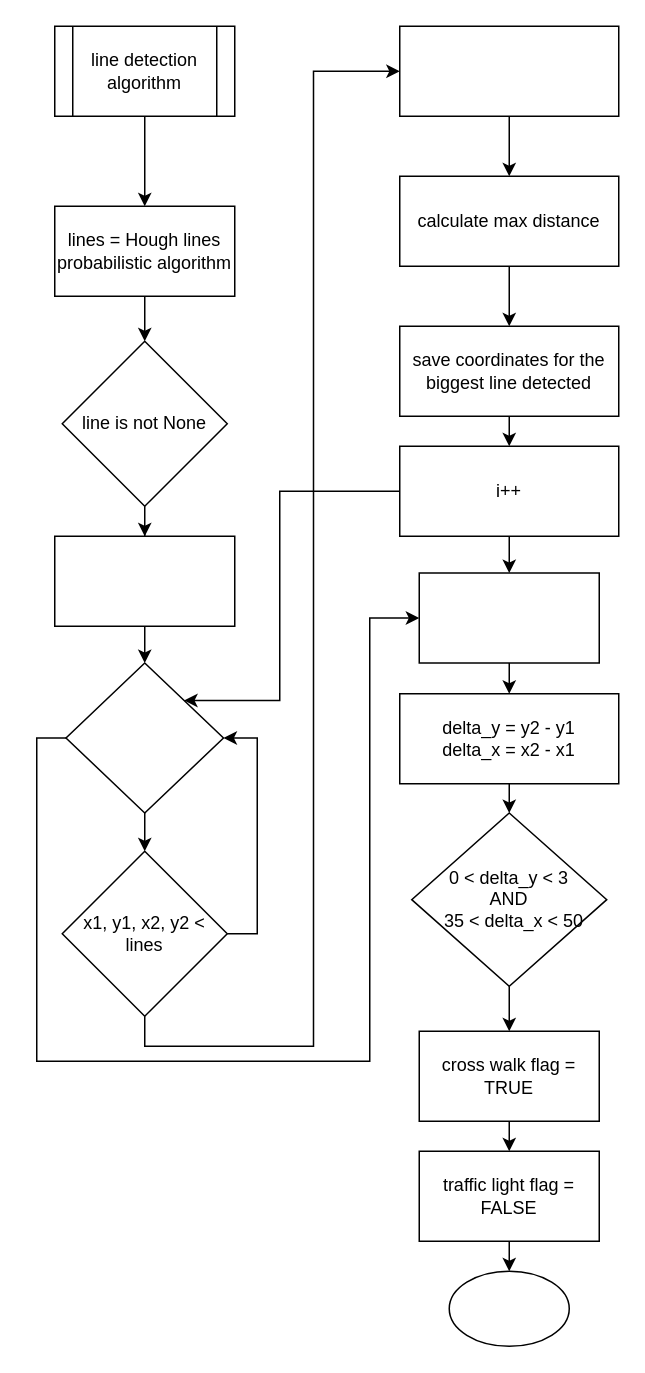
Some shapes in this 645 by 1373 pixel diagram are drawn without their labels. Here are the shapes that lost their labels. From the top down, the centre of each, then its label:
the point at 508,70: distance = euclidean(x1,y1,x2,y2)
the point at 144,580: cross walk flag = FALSE
the point at 508,617: return x1,y1,x2,y2
the point at 144,737: i < len(lines)
the point at 508,1308: end
